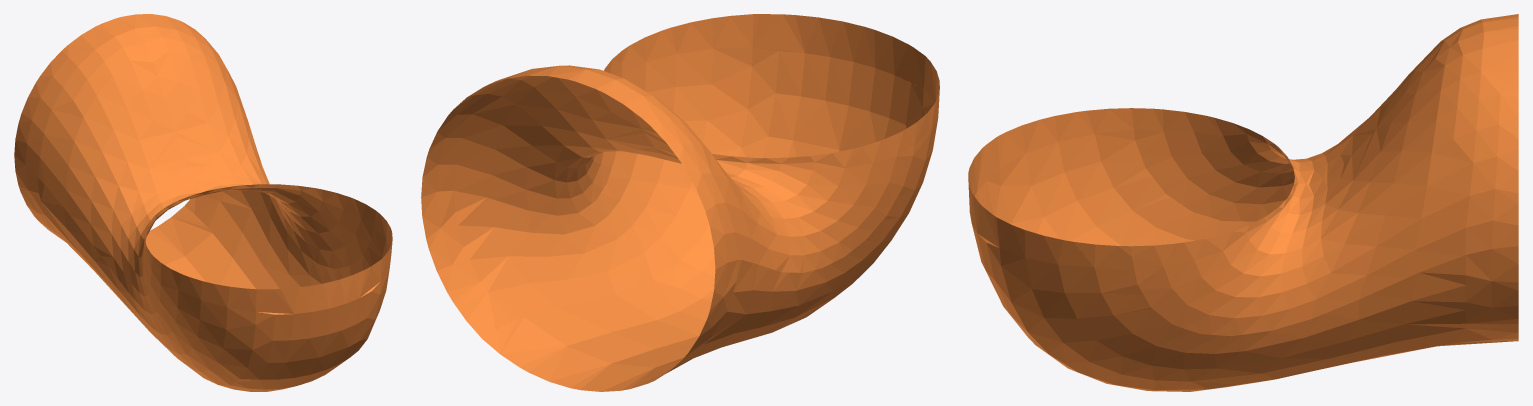
The model's file is kuka_URDF_link_2_vis_1.dae.
3 renders of one model, left to right at view 1: azimuth 30°, elevation 25°; view 2: azimuth 150°, elevation 25°; view 3: azimuth 270°, elevation 25°, orthographic. The views are drawn at different scales.
Visible parts, largest first — view 1: Node_0000020FCC590AE0; view 2: Node_0000020FCC590AE0; view 3: Node_0000020FCC590AE0.
Boxes of the visible parts, x1,y1,x2,y2 form: Node_0000020FCC590AE0: (14, 14, 392, 391); Node_0000020FCC590AE0: (421, 14, 939, 391); Node_0000020FCC590AE0: (968, 14, 1518, 391).
Size of the model in its own units: 0.171 by 0.2012 by 0.2878.
